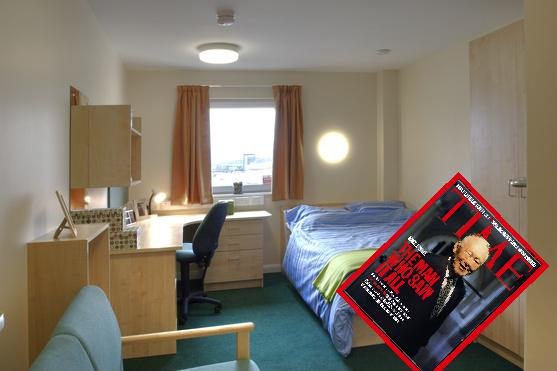times: (336, 172, 549, 371)
